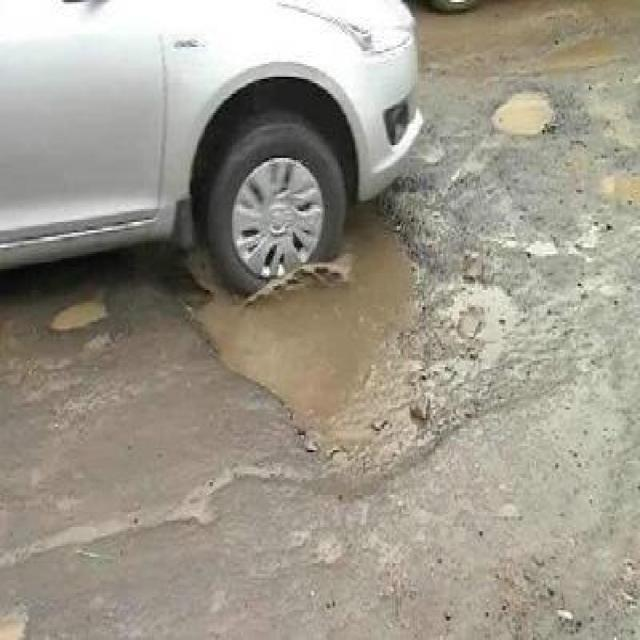pothole: (185, 199, 473, 433), (480, 78, 560, 153), (42, 282, 112, 359)
